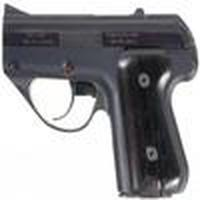gun: (1, 5, 198, 200)
